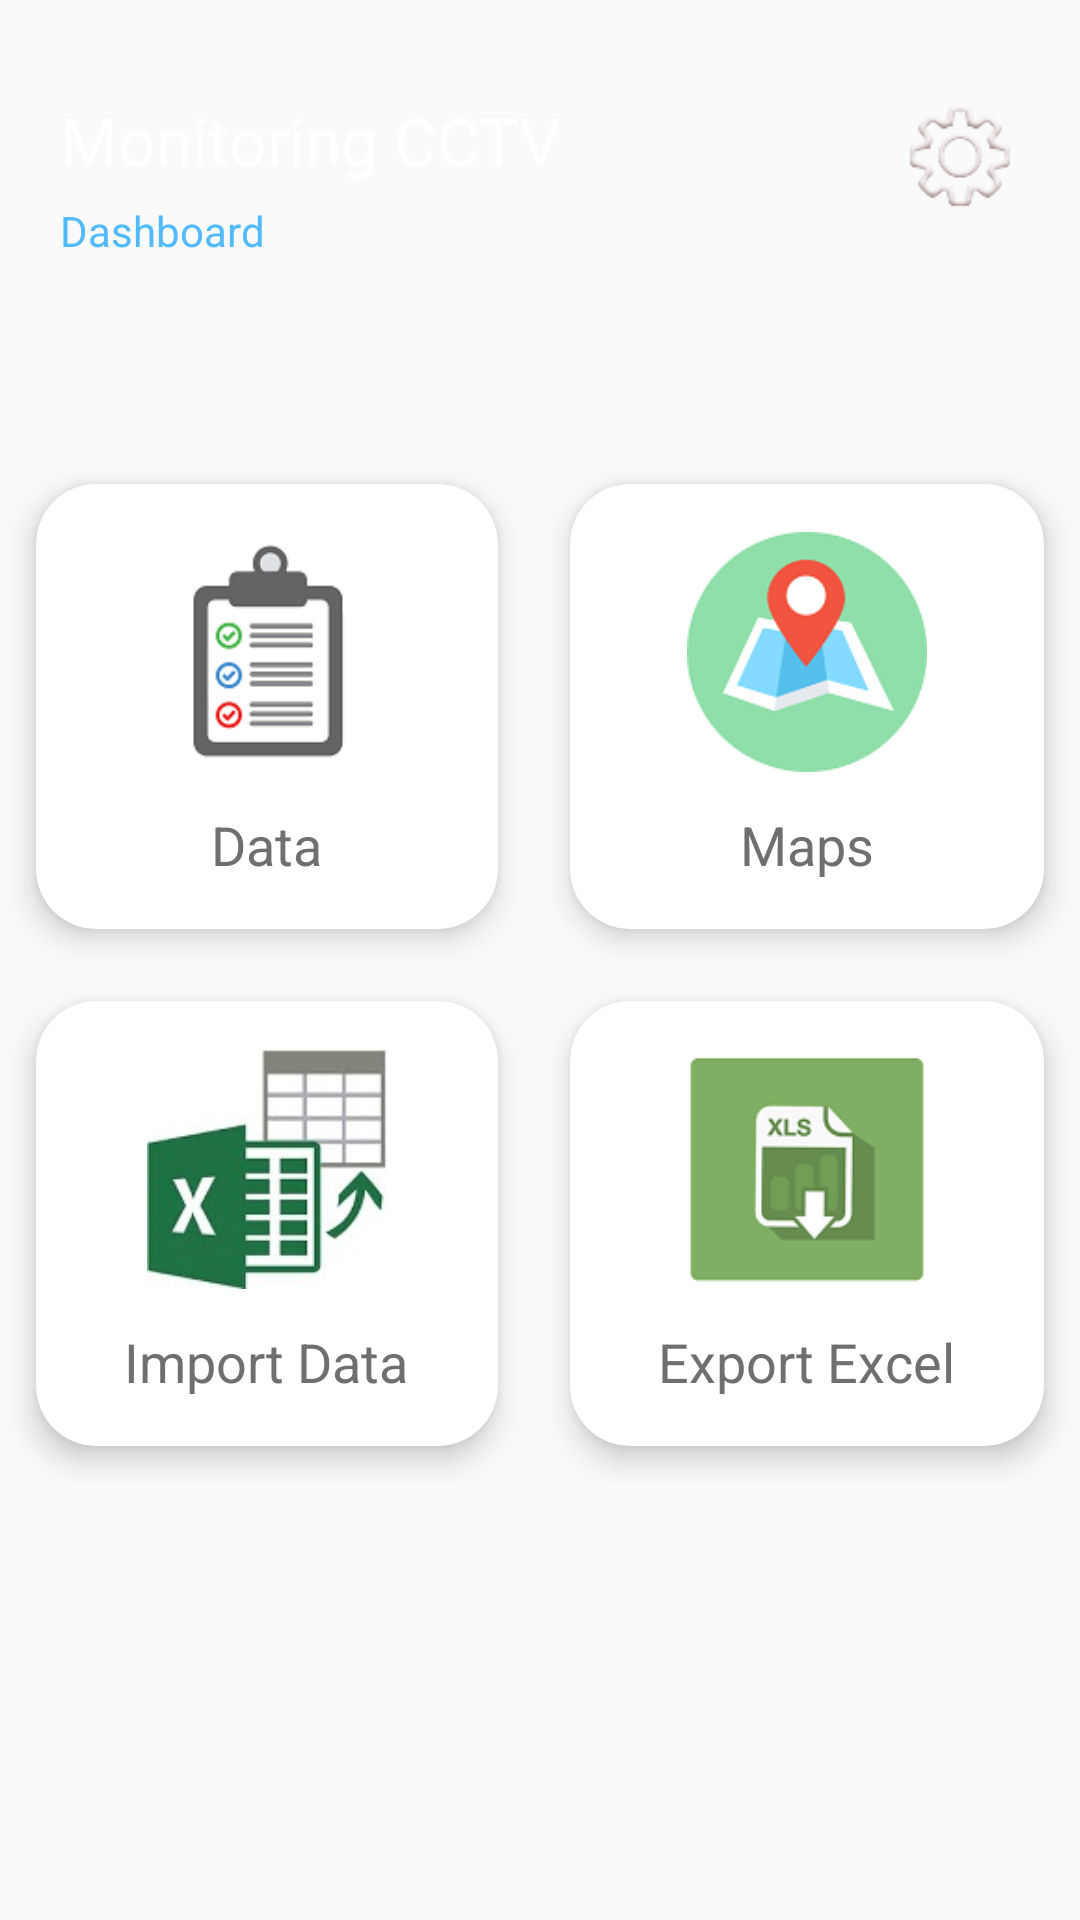

Where icons sit on this 1080px×1920px app screen, as (x1, y1, x2, y2):
setting: (910, 109, 1010, 206)
